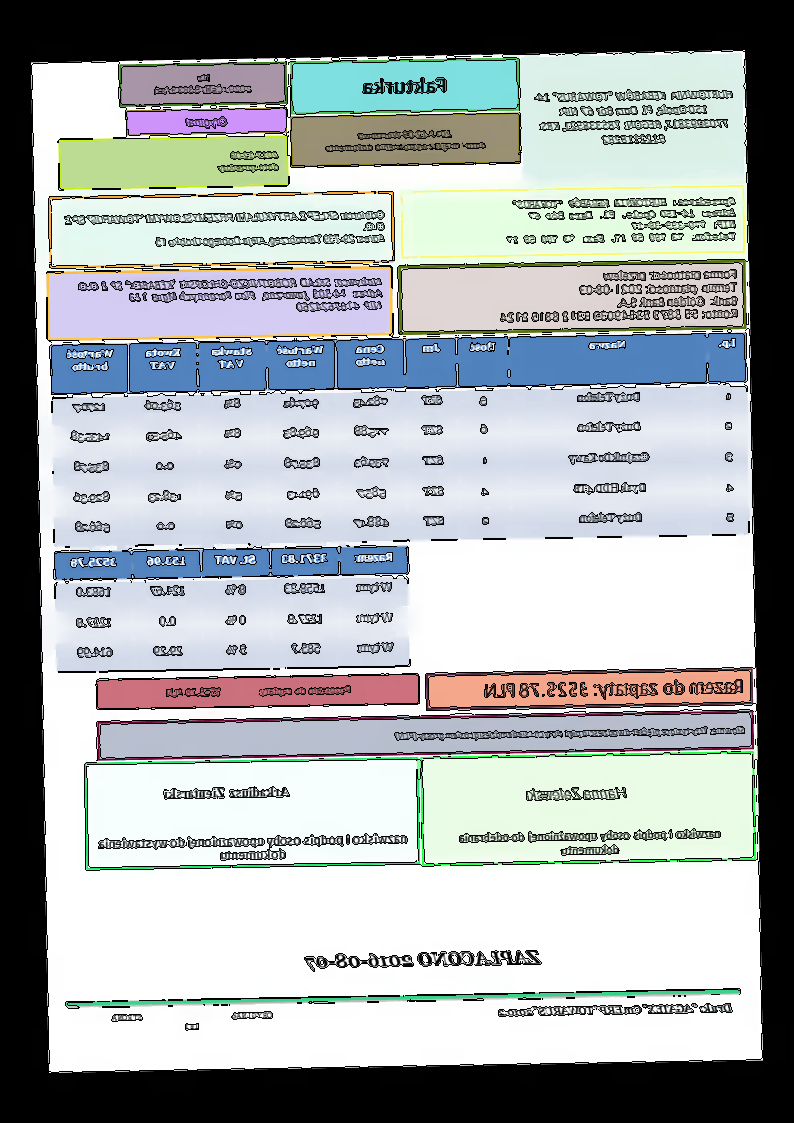Table: (48, 330, 751, 549), (53, 543, 412, 671)
TextBox: (61, 204, 390, 255), (73, 270, 387, 321), (497, 266, 742, 324), (503, 191, 741, 249), (531, 84, 736, 151), (94, 826, 411, 864), (454, 823, 725, 861), (392, 720, 750, 745), (482, 670, 750, 703), (300, 943, 544, 976), (492, 999, 736, 1023), (322, 123, 492, 155), (110, 1007, 276, 1036), (161, 679, 356, 702), (160, 782, 292, 806), (149, 68, 254, 98), (523, 778, 632, 806), (360, 72, 453, 97), (215, 146, 282, 178), (181, 112, 230, 130)
